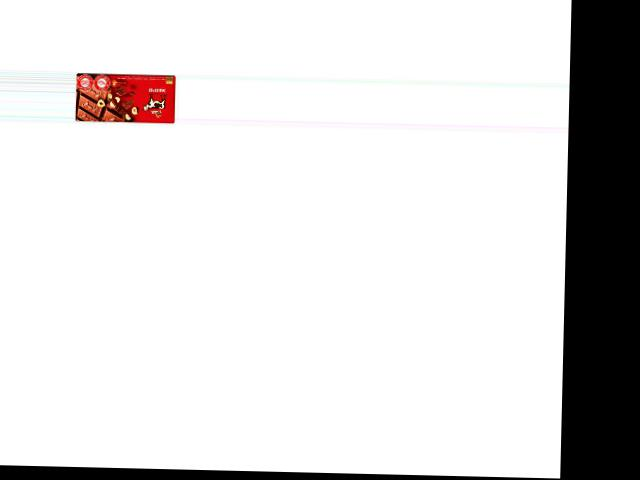chocolate: (75, 72, 176, 123)
